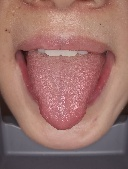tongue: (25, 58, 106, 131)
